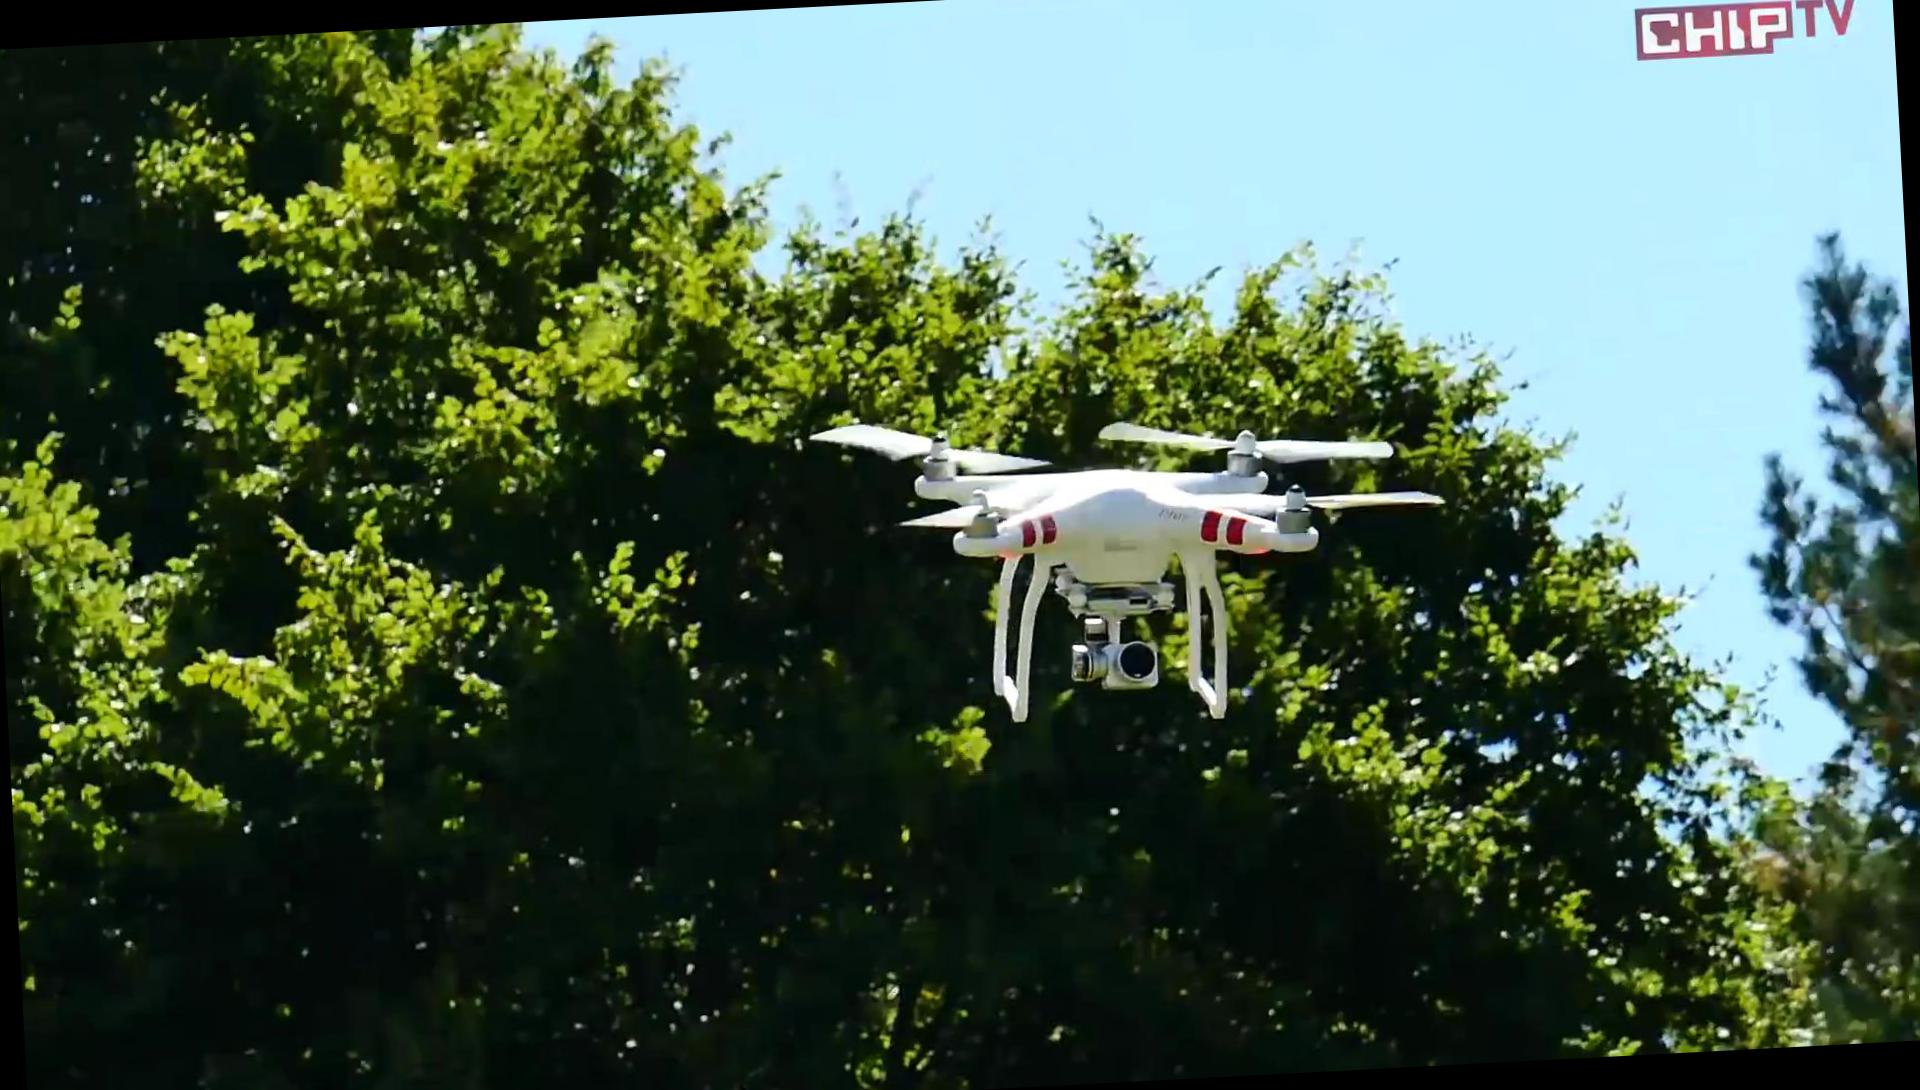drone: (804, 381, 1457, 742)
